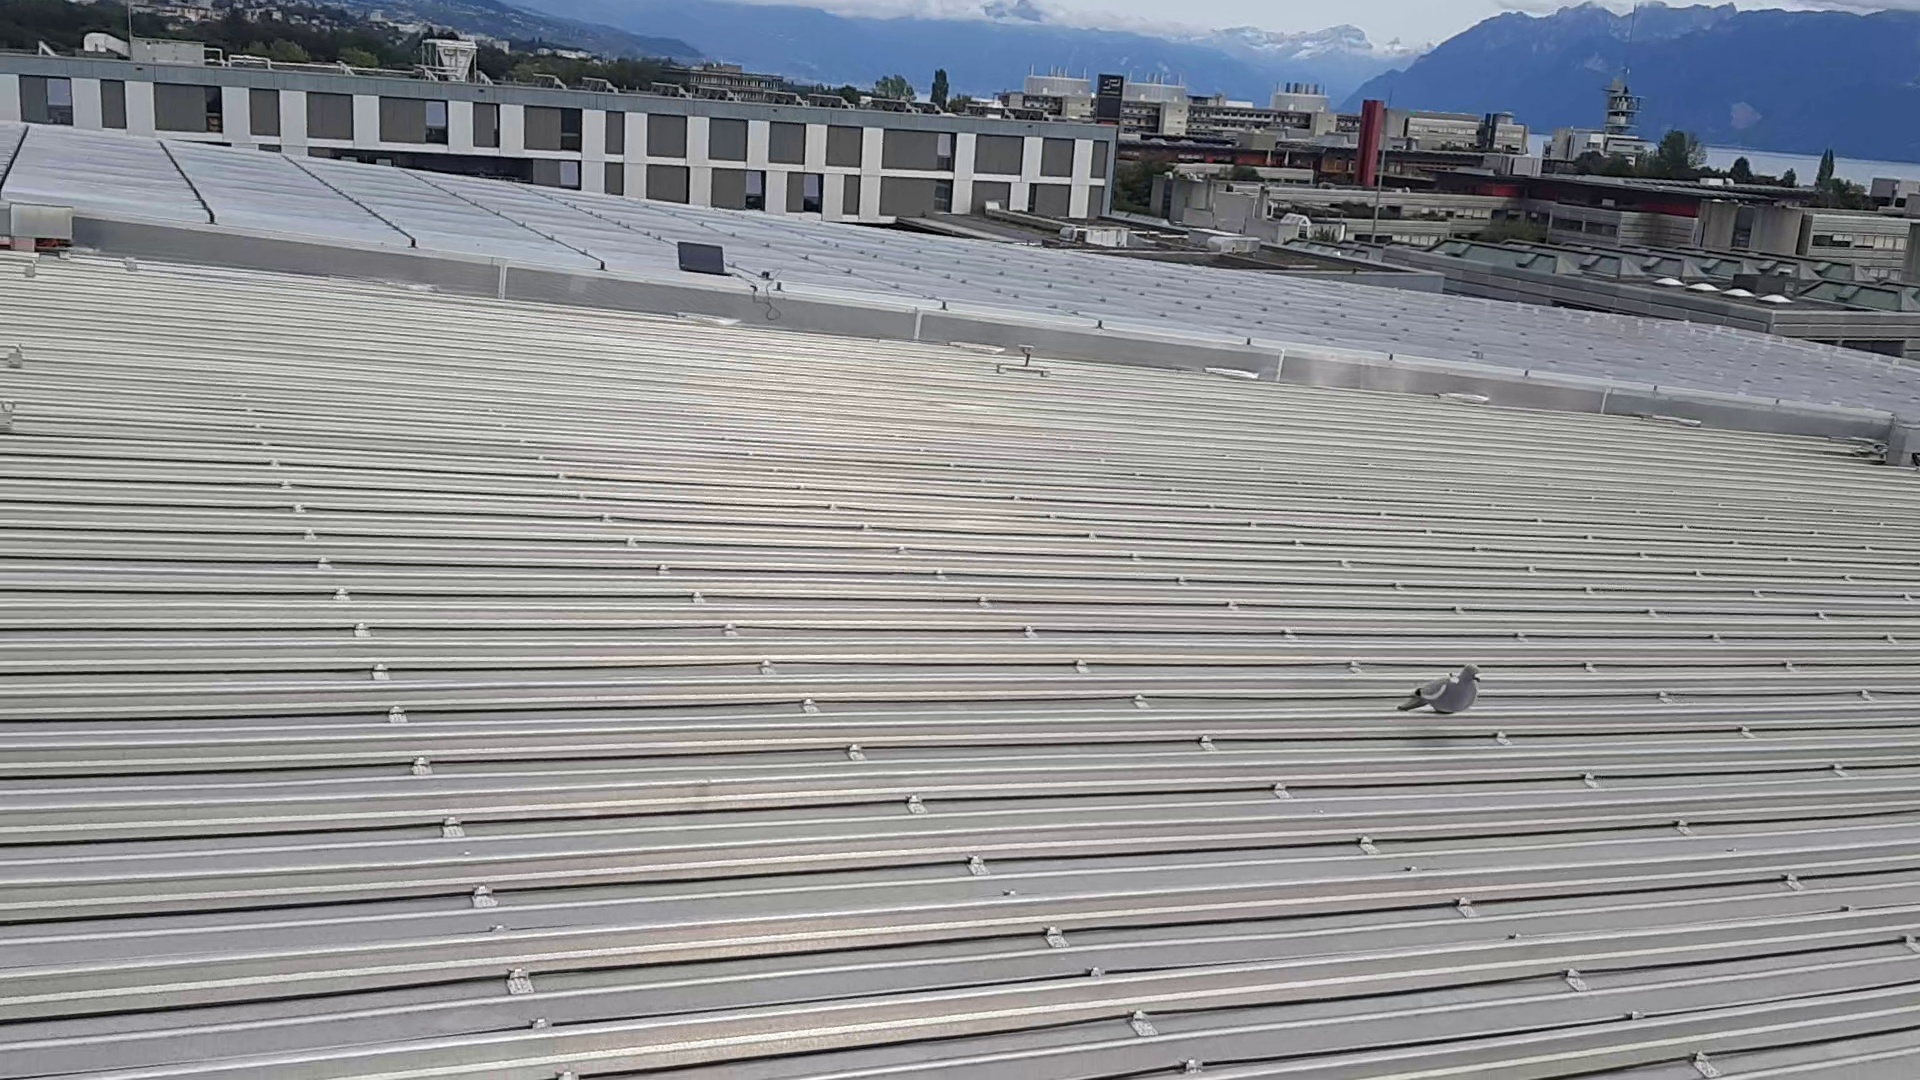Pigeon: (1398, 659, 1487, 723)
